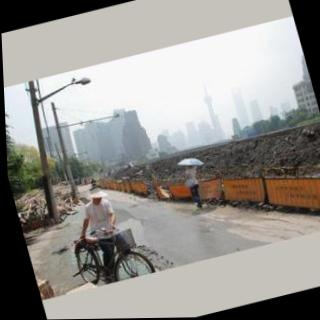Bike: (68, 219, 156, 289)
Person-Bike: (67, 187, 131, 280), (181, 164, 207, 209)
